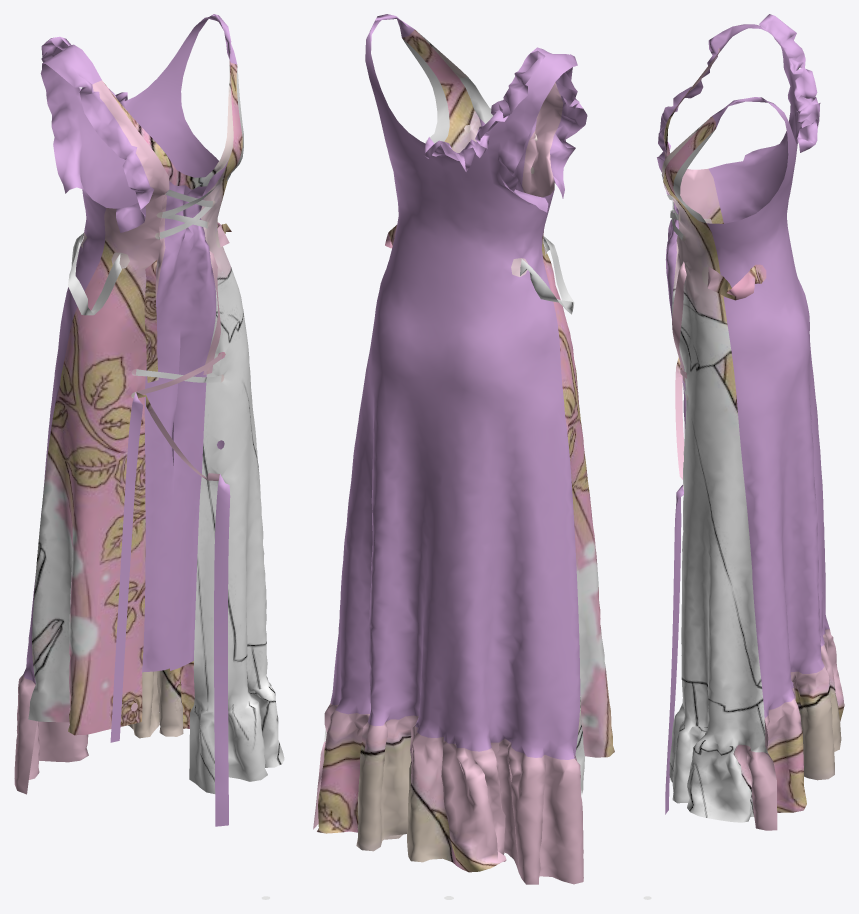
Rendered from asset03.glb.
3 views of the same model, side by side, from view 1: azimuth 30°, elevation 25°; view 2: azimuth 150°, elevation 25°; view 3: azimuth 270°, elevation 25° (orthographic). The views are drawn at different scales.
Visible parts, largest first — view 1: 01.001; view 2: 01.001; view 3: 01.001.
Boxes of the visible parts, bbox=[...] form: 01.001: bbox=[14, 14, 284, 899]; 01.001: bbox=[313, 14, 614, 899]; 01.001: bbox=[643, 14, 844, 899].
Size of the model in its own units: 0.4776 by 1.6 by 0.3576.
3 materials, 1 textured.
